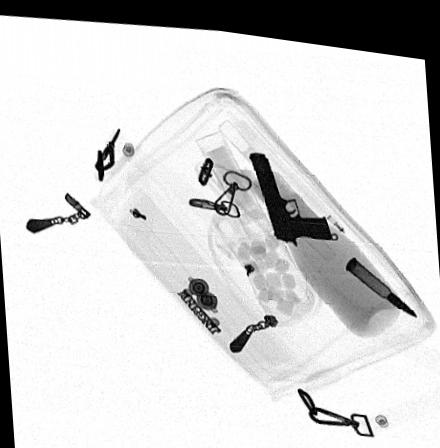Bullet: (345, 246, 419, 304)
Gun: (249, 144, 333, 235)
